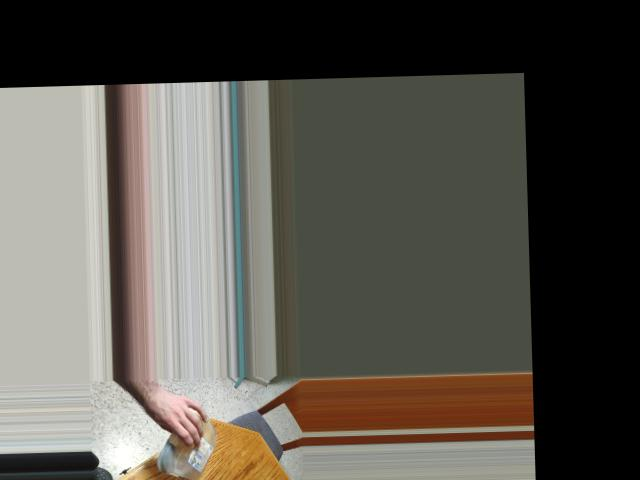cheese: (173, 417, 215, 475)
